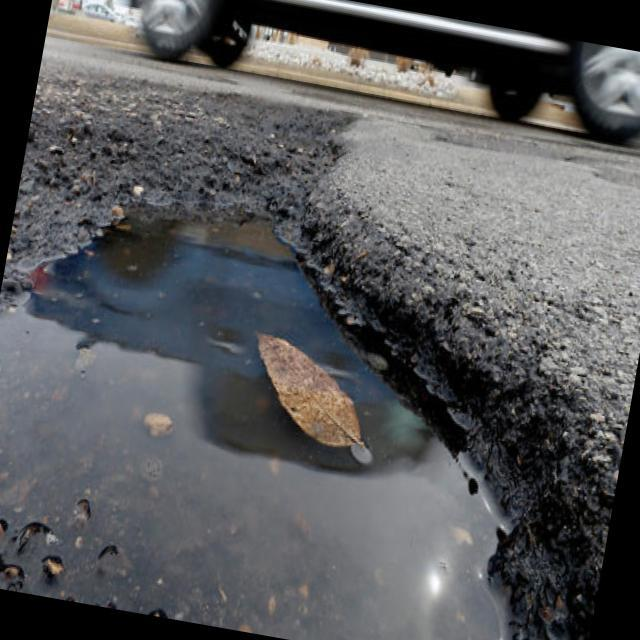Pothole: (0, 143, 599, 640)
